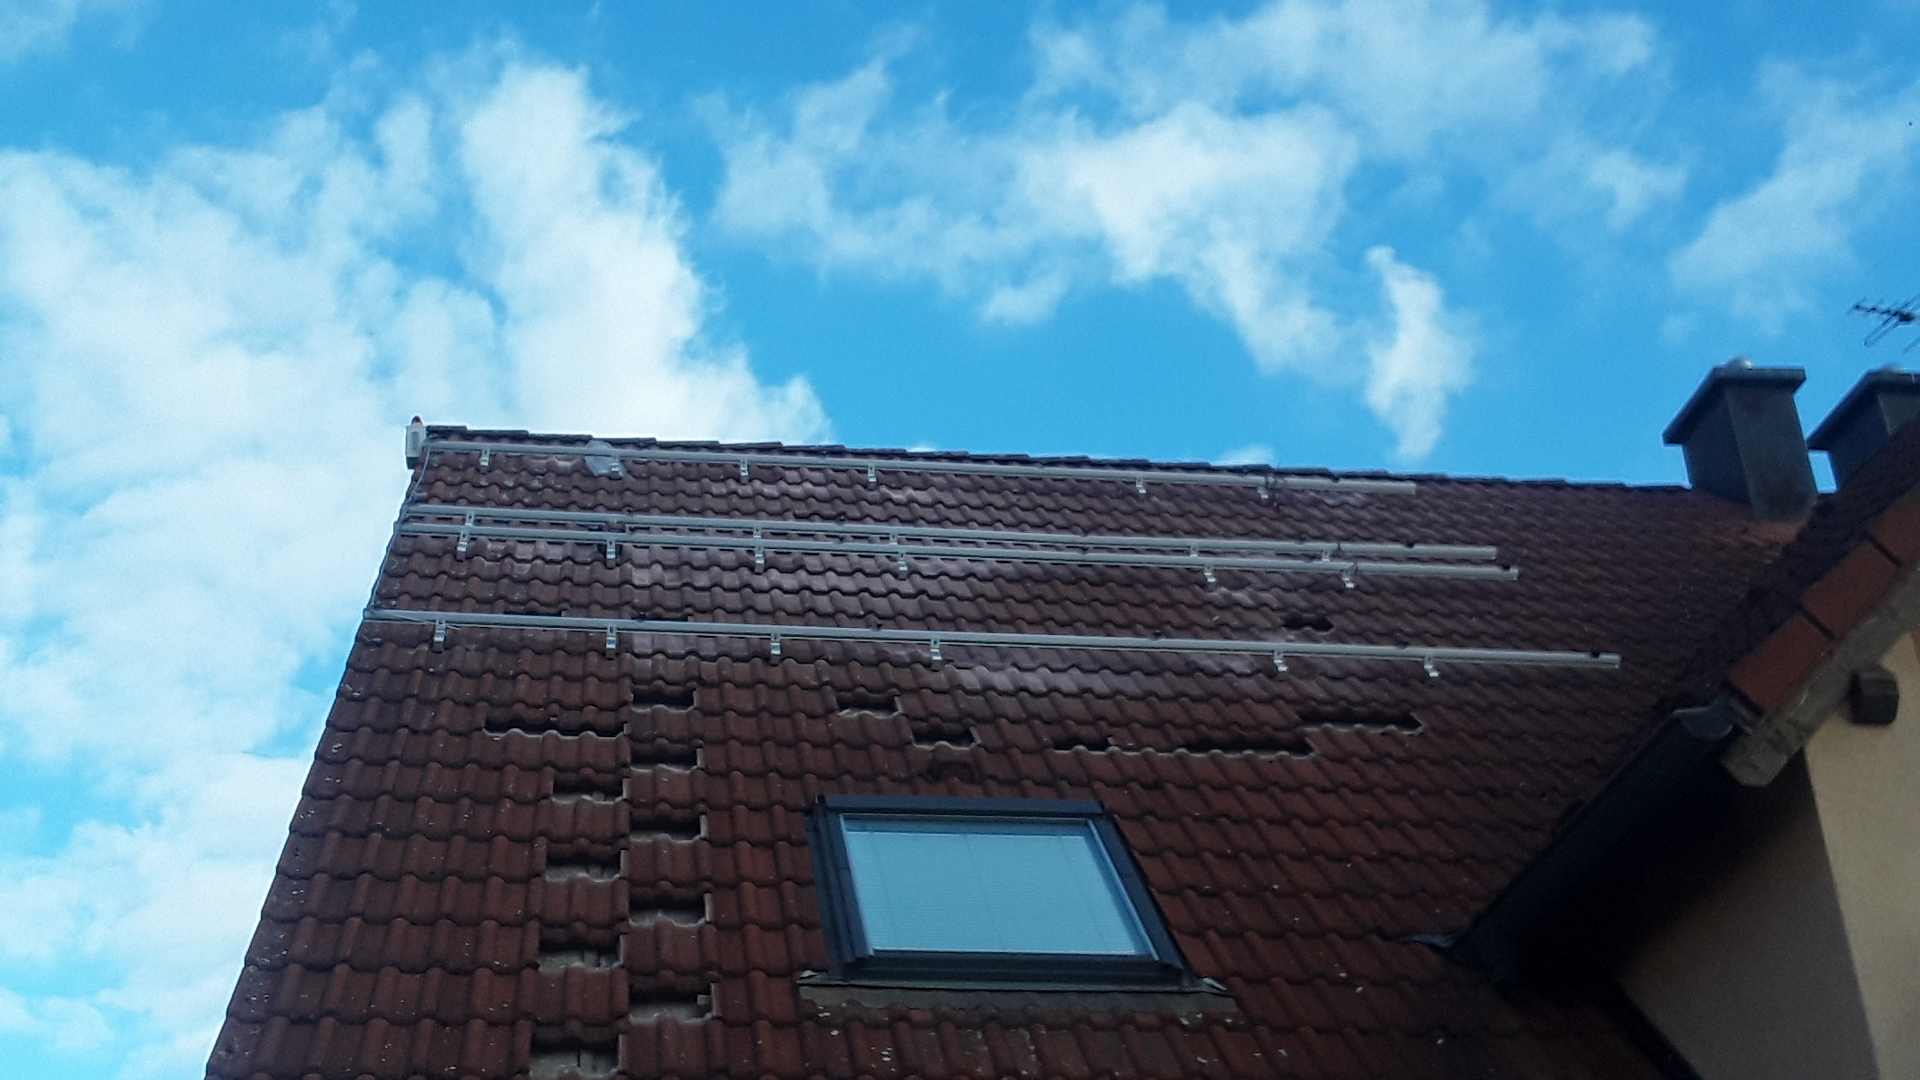hook: (1273, 647, 1288, 680), (1423, 653, 1439, 686), (433, 618, 446, 653), (928, 637, 942, 670), (769, 630, 781, 665), (1338, 567, 1356, 589), (1203, 563, 1216, 592), (456, 530, 468, 560), (607, 624, 616, 658), (1255, 480, 1269, 504), (754, 545, 765, 574), (607, 537, 616, 568), (898, 551, 909, 579), (1135, 473, 1146, 500), (480, 447, 489, 473), (740, 458, 749, 484), (866, 464, 876, 489), (611, 454, 620, 477), (1320, 549, 1331, 562), (465, 510, 473, 526), (889, 531, 898, 545), (753, 525, 761, 539), (1189, 545, 1199, 556)
